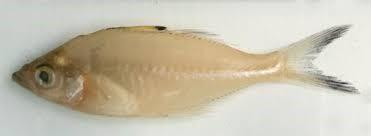Glass Perchlet: (11, 21, 361, 122)
